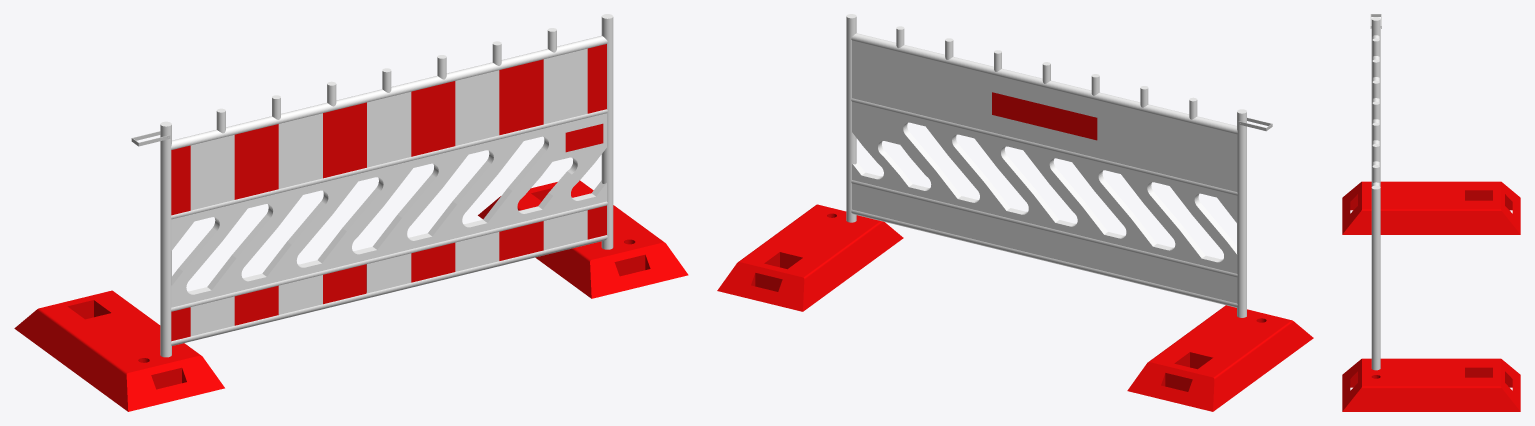
File: Aita.glb
The picture shows the model from 3 angles, left to right: view 1: azimuth 30°, elevation 25°; view 2: azimuth 150°, elevation 25°; view 3: azimuth 270°, elevation 25°; orthographic projection. The views are drawn at different scales.
Parts seen in each view (by area): view 1: IfcProxy/Construction Site Barrier; view 2: IfcProxy/Construction Site Barrier; view 3: IfcProxy/Construction Site Barrier.
Boxes of the visible parts, box(x1,y1,x2,y2) form: IfcProxy/Construction Site Barrier: box(14, 14, 688, 411); IfcProxy/Construction Site Barrier: box(717, 14, 1313, 411); IfcProxy/Construction Site Barrier: box(1342, 14, 1520, 411).
Bounding box in the file's own units: 2.54 × 1.12 × 0.895.
